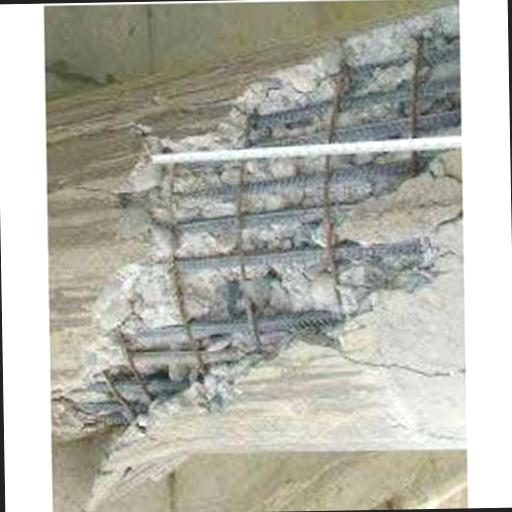spalling: (70, 29, 460, 438)
